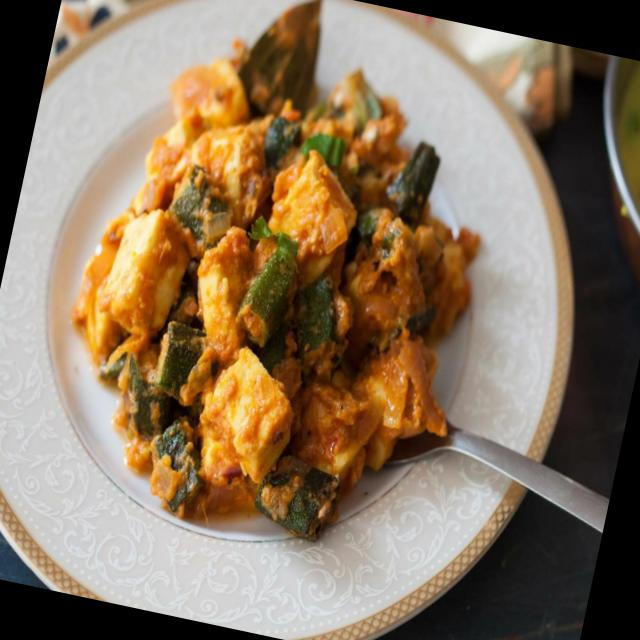BhindiMasala: (36, 0, 531, 566)
